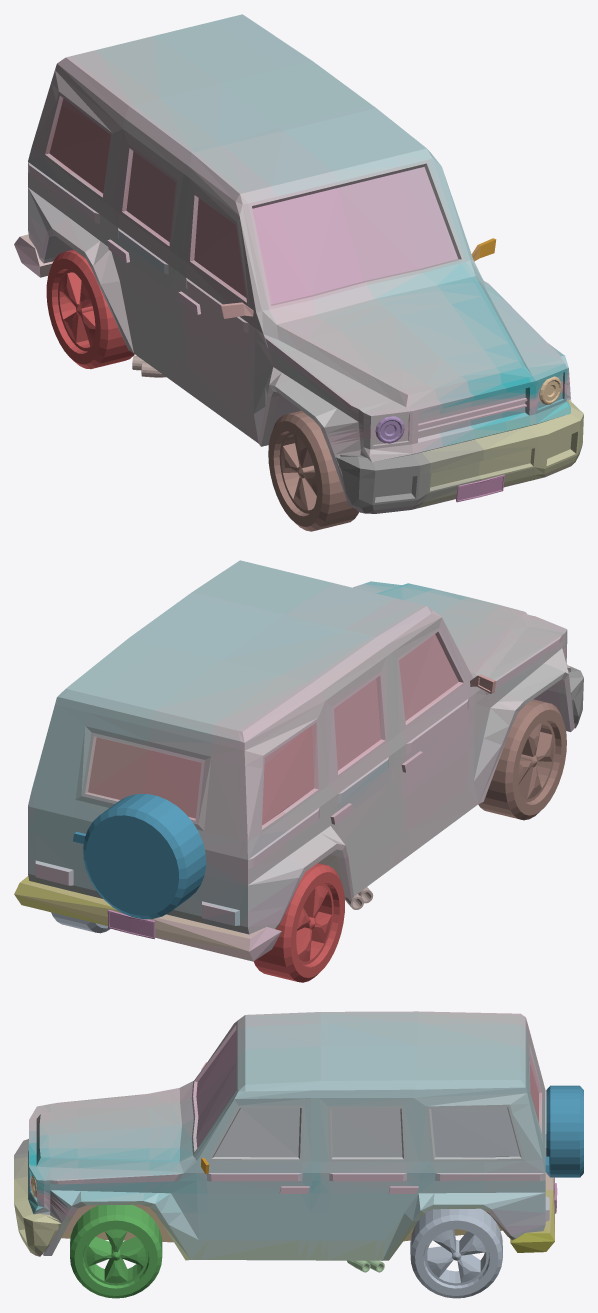
3 renders of one model, top to bottom at view 1: azimuth 30°, elevation 25°; view 2: azimuth 150°, elevation 25°; view 3: azimuth 270°, elevation 25°, orthographic. The views are drawn at different scales.
Parts seen in each view (by area): view 1: world; view 2: world; view 3: world.
Part boxes in pixels (x1=…): world: x1=14, y1=14, x2=583, y2=531; world: x1=14, y1=560, x2=583, y2=982; world: x1=14, y1=1011, x2=583, y2=1298.
Size of the model in its own units: 0.7683 by 0.7252 by 1.8.
